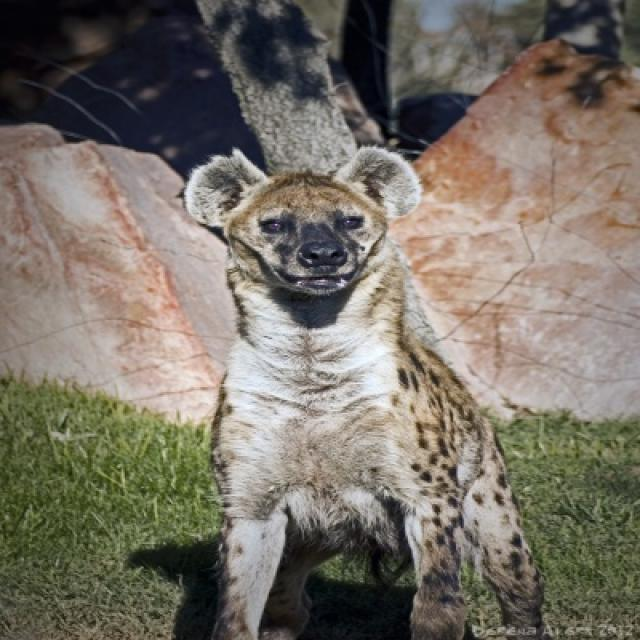hyena: (174, 144, 550, 638)
